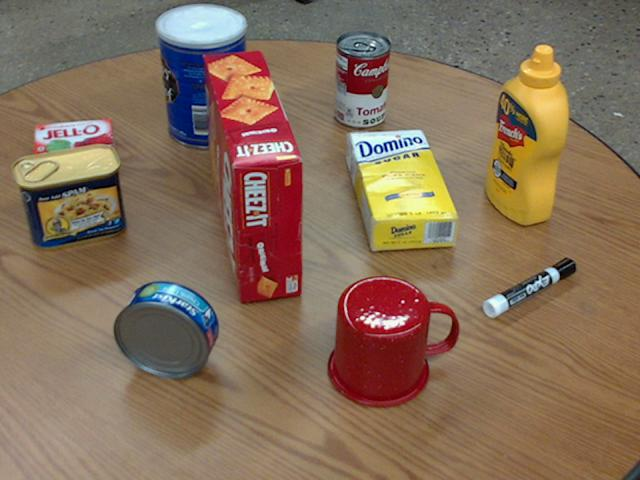cracker_box: (200, 50, 301, 300)
gelatin_box: (31, 118, 112, 173)
large_marker: (483, 258, 575, 318)
master_chef_can: (155, 4, 247, 147)
mug: (328, 275, 457, 407)
mustard_bottle: (485, 46, 568, 224)
potted_meat_can: (12, 142, 124, 247)
sugar_box: (347, 130, 458, 249)
tomato_soup_can: (333, 30, 390, 127)
tuna_fish_can: (114, 281, 218, 377)
